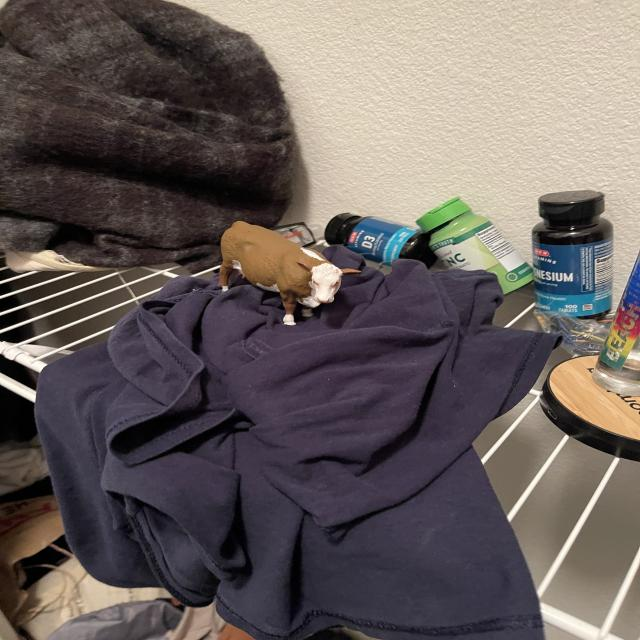cow: (200, 212, 360, 343), (328, 281, 334, 288)
